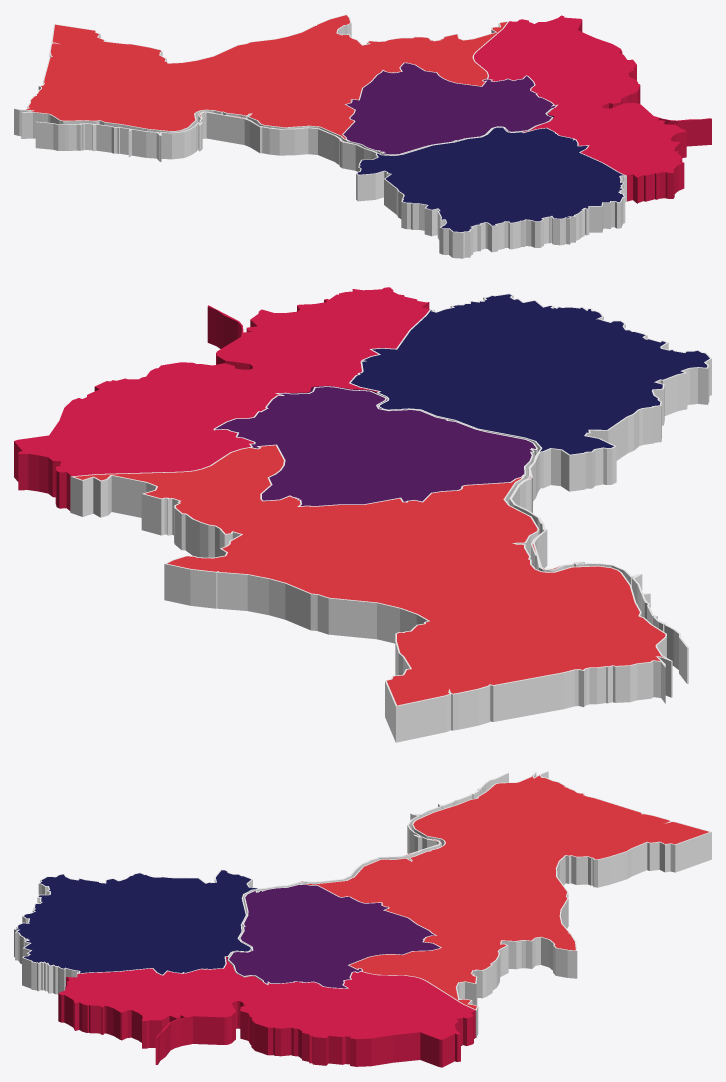
The model's file is Bristol2-5.obj.
The picture shows the model from 3 angles, top to bottom: view 1: azimuth 30°, elevation 25°; view 2: azimuth 150°, elevation 25°; view 3: azimuth 270°, elevation 25°; orthographic projection. The views are drawn at different scales.
Parts seen in each view (by area): view 1: Curve.017_Mesh; view 2: Curve.017_Mesh; view 3: Curve.017_Mesh.
Part boxes in pixels (left/top/right/bottom): Curve.017_Mesh: left=14, top=14, right=711, bottom=258; Curve.017_Mesh: left=14, top=287, right=711, bottom=742; Curve.017_Mesh: left=14, top=771, right=711, bottom=1067.
Size of the model in its own units: 3.8 by 0.1825 by 4.17.
